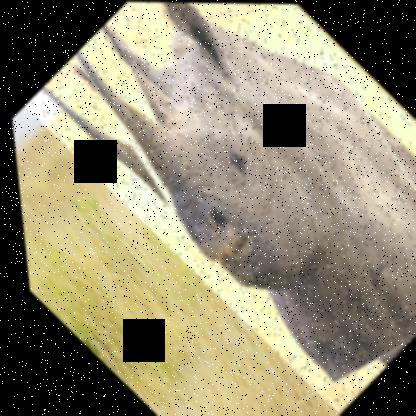Diceros bicornis: (13, 0, 415, 414)
